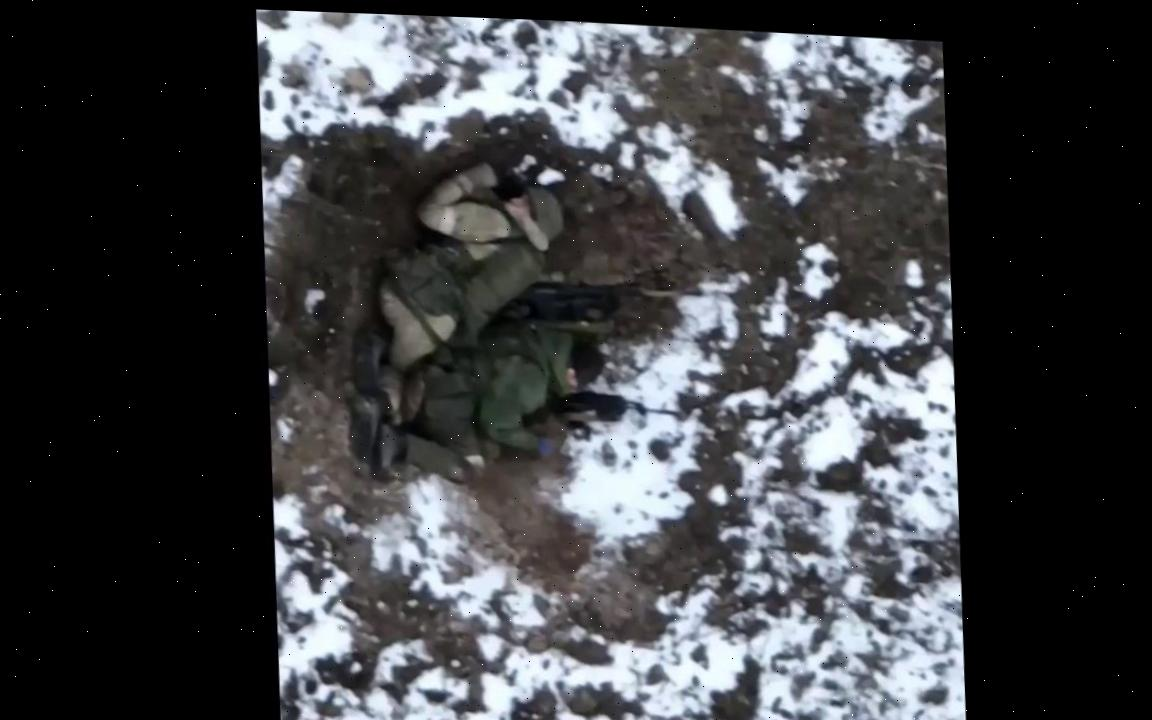person: (334, 147, 575, 463), (355, 301, 608, 494)
